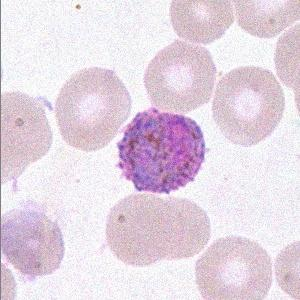Infected: (117, 106, 205, 195)
Uninfected: (55, 68, 131, 152), (215, 66, 286, 145), (143, 40, 215, 116), (107, 196, 174, 266), (197, 237, 271, 300), (1, 209, 66, 275), (154, 198, 210, 257)
